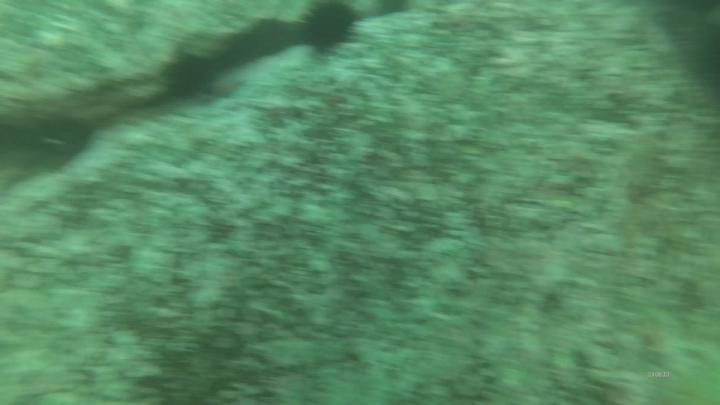echinus: (158, 50, 220, 105), (302, 3, 360, 55)
